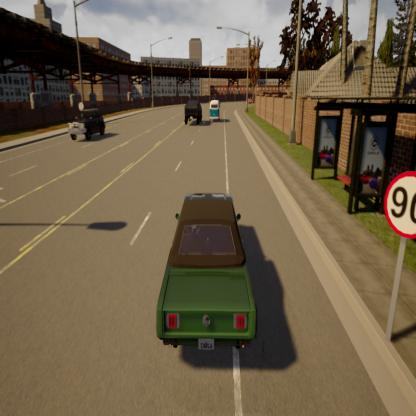Cars: (144, 163, 278, 367), (64, 98, 114, 150), (180, 88, 202, 130), (208, 93, 224, 128)
